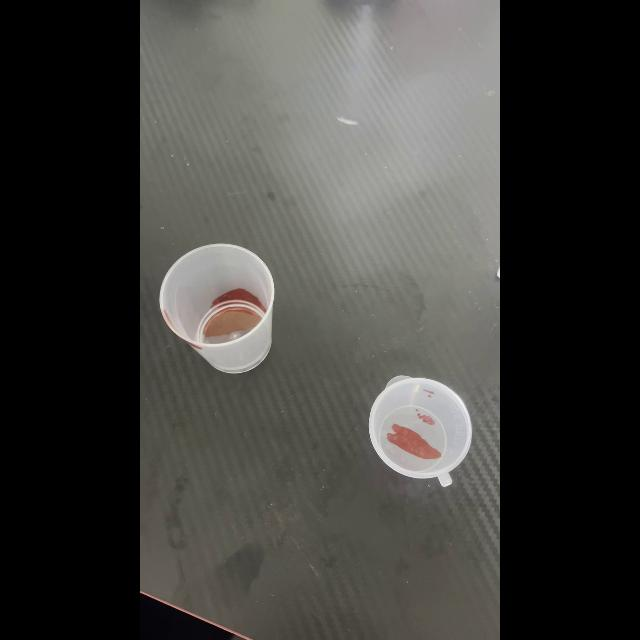dirty: (158, 244, 276, 372), (367, 376, 473, 484)
